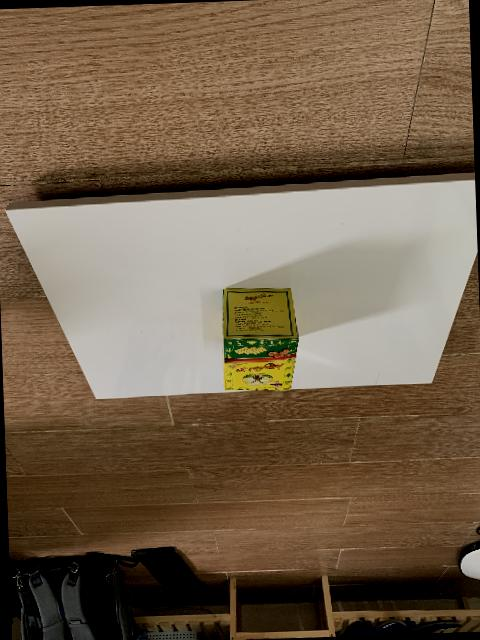luong_kho: (221, 287, 298, 392)
